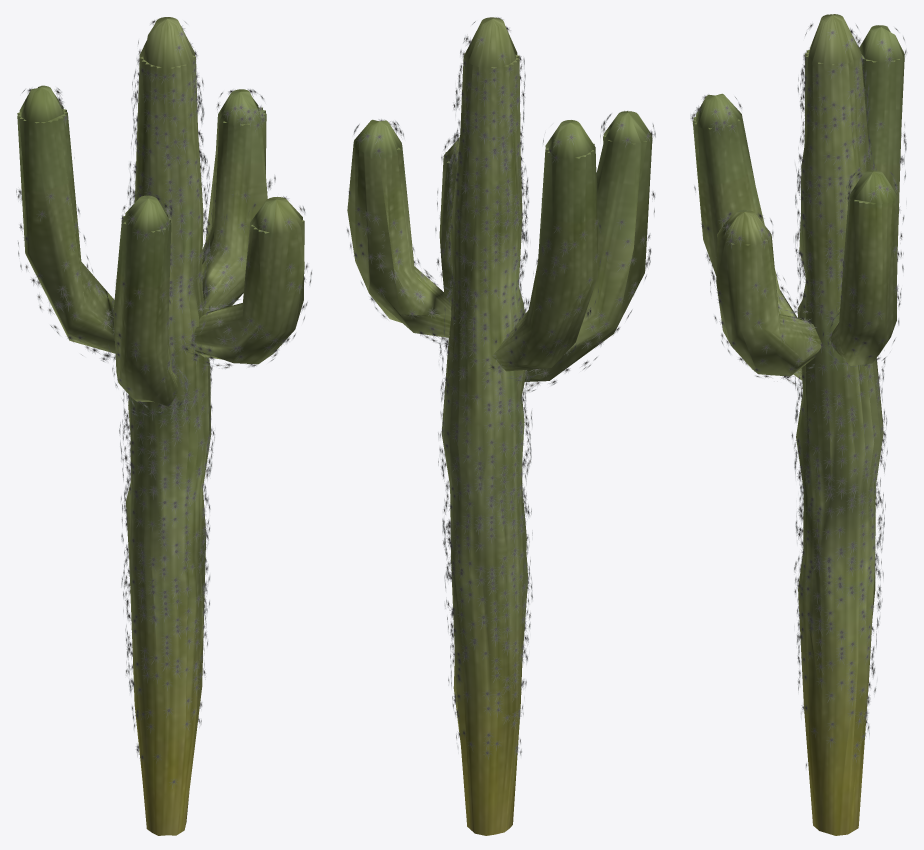
File: cactus_saguaro_1.glb
3 views of the same model, side by side, from view 1: azimuth 30°, elevation 25°; view 2: azimuth 150°, elevation 25°; view 3: azimuth 270°, elevation 25° (orthographic).
Visible parts, largest first — view 1: prop; view 2: prop; view 3: prop.
Part boxes in pixels (x1,y1,x2,y2): prop: [16, 17, 311, 835]; prop: [347, 17, 655, 835]; prop: [690, 14, 906, 835].
Size of the model in its own units: 2.46 by 7.49 by 1.86.
Materials: 3 (3 with a texture image).
